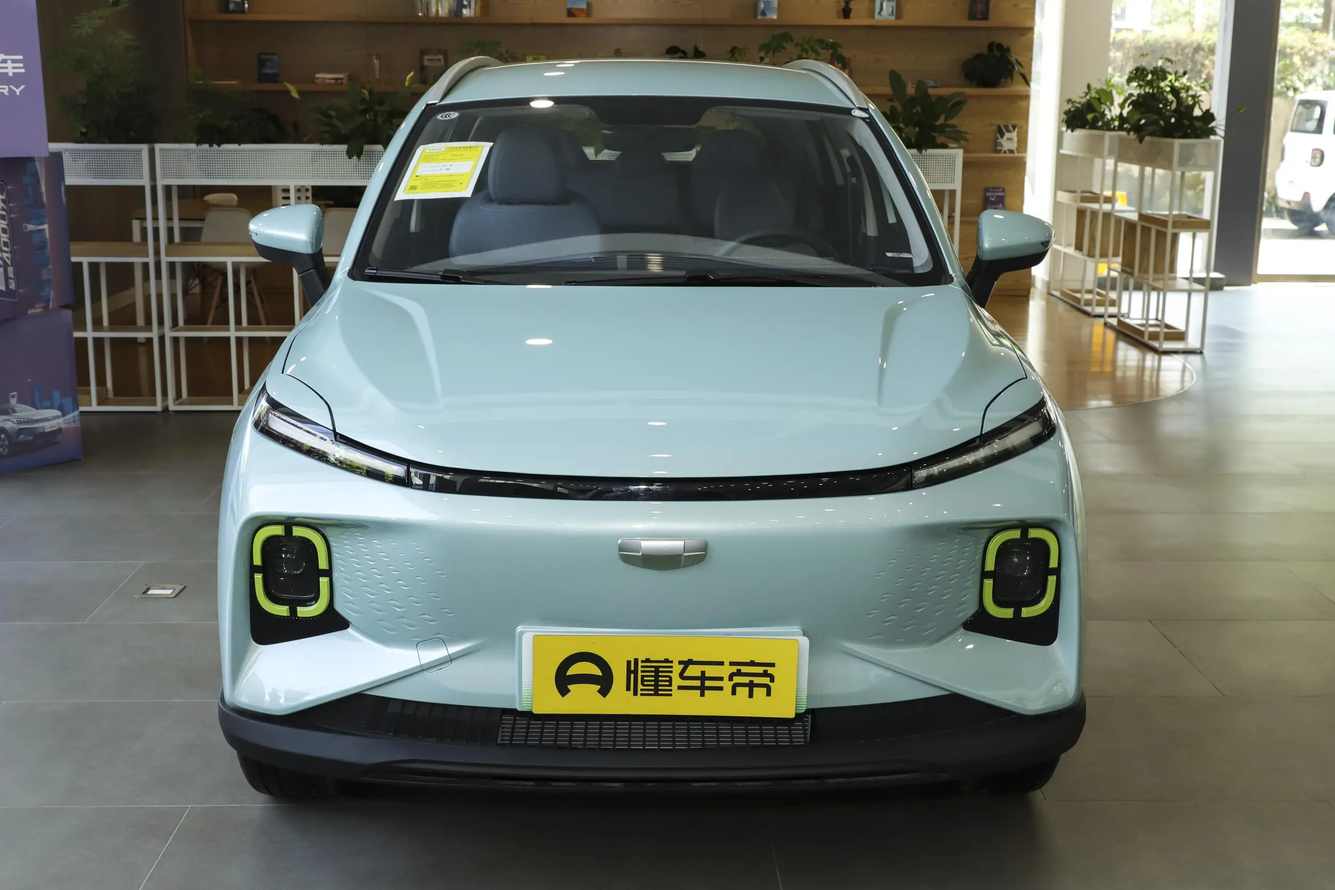GEOMETRY: (618, 540, 707, 570)
